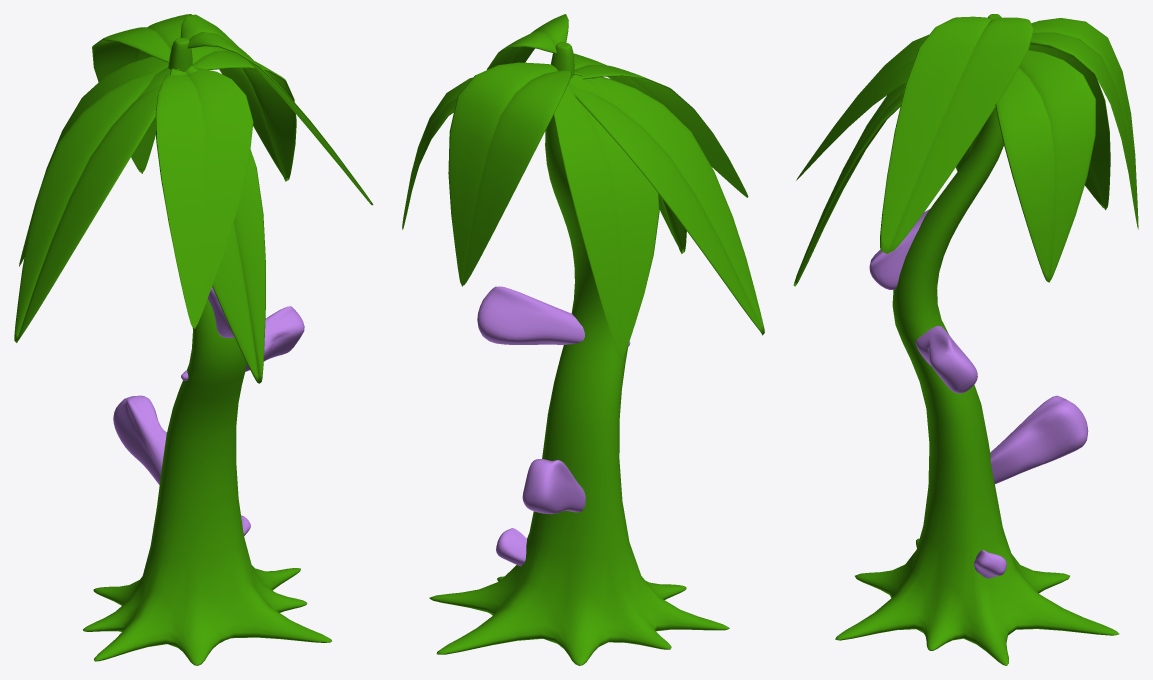
The model's file is LeafyPlant_L2.fbx.
3 views of the same model, side by side, from view 1: azimuth 30°, elevation 25°; view 2: azimuth 150°, elevation 25°; view 3: azimuth 270°, elevation 25° (orthographic). The views are drawn at different scales.
Parts seen in each view (by area): view 1: LeafyBlight_L2; view 2: LeafyBlight_L2; view 3: LeafyBlight_L2.
Part boxes in pixels (x1,y1,x2,y2): LeafyBlight_L2: [14, 14, 373, 665]; LeafyBlight_L2: [402, 14, 764, 665]; LeafyBlight_L2: [793, 14, 1138, 665].
Size of the model in its own units: 12.53 by 21.58 by 11.3.
